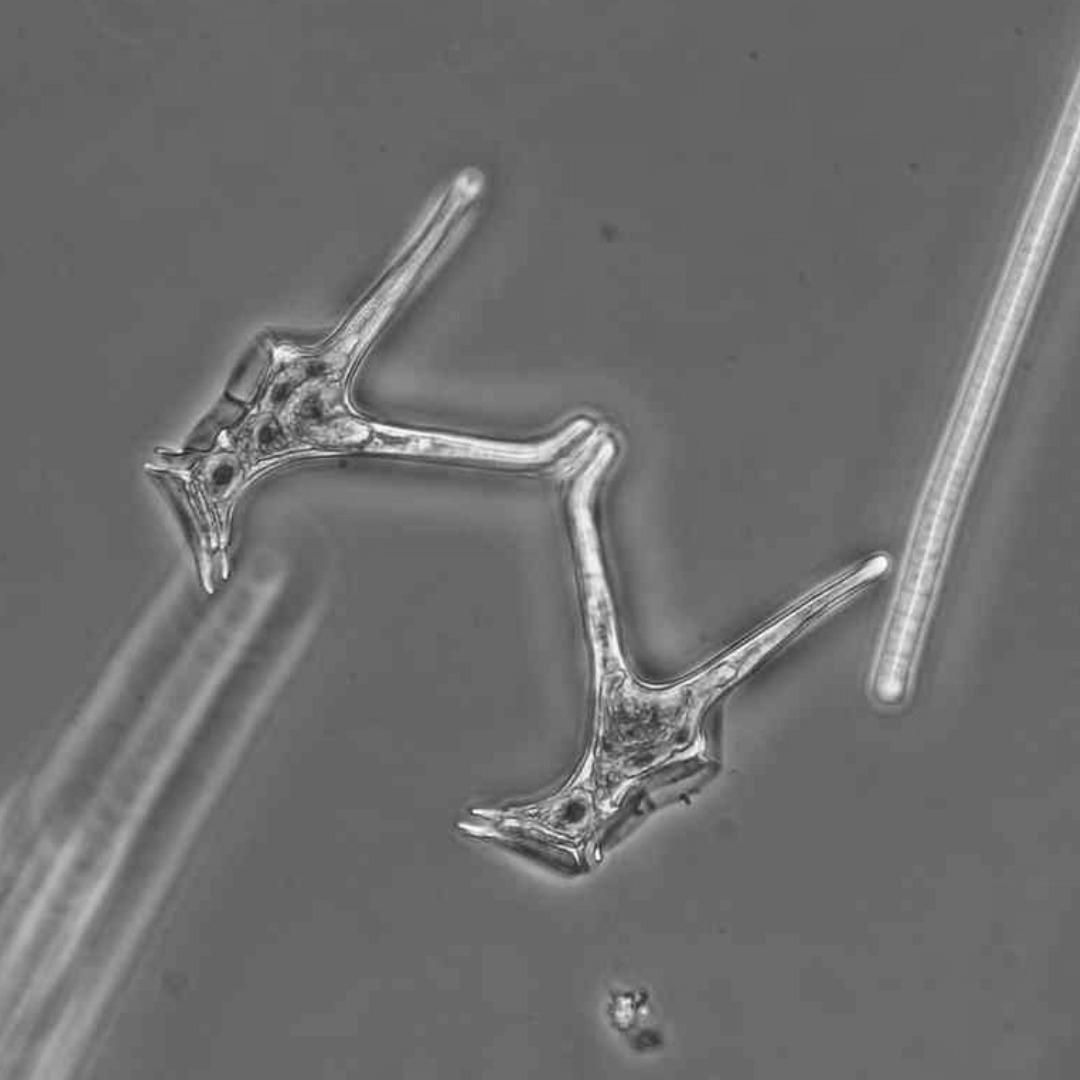dinophysis_miles: (129, 166, 593, 597), (456, 435, 888, 874)
